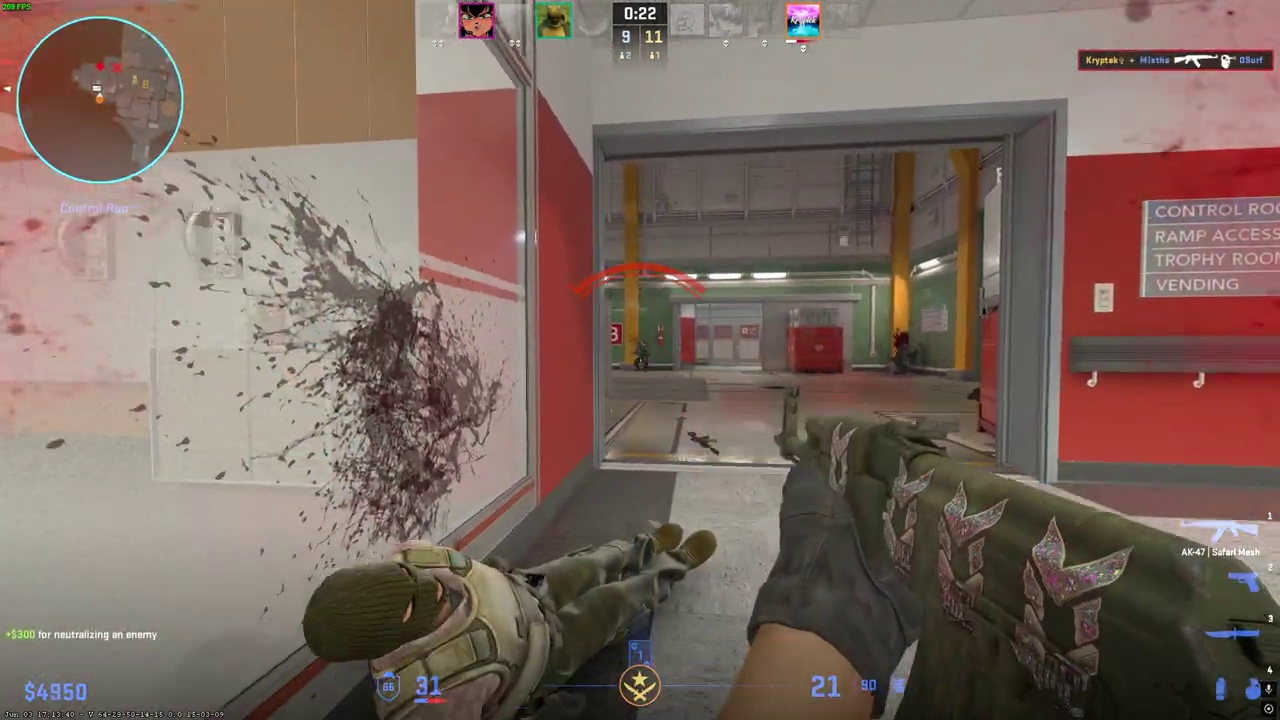CT: (634, 342, 649, 371)
